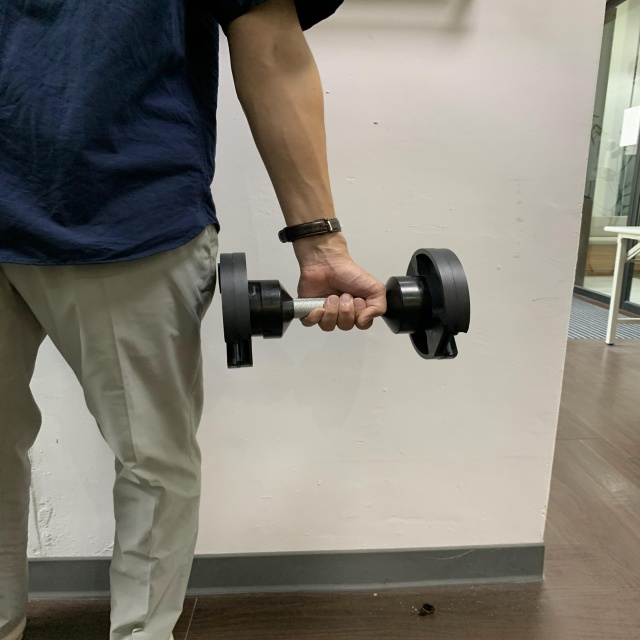03-6kg: (216, 244, 474, 371)
